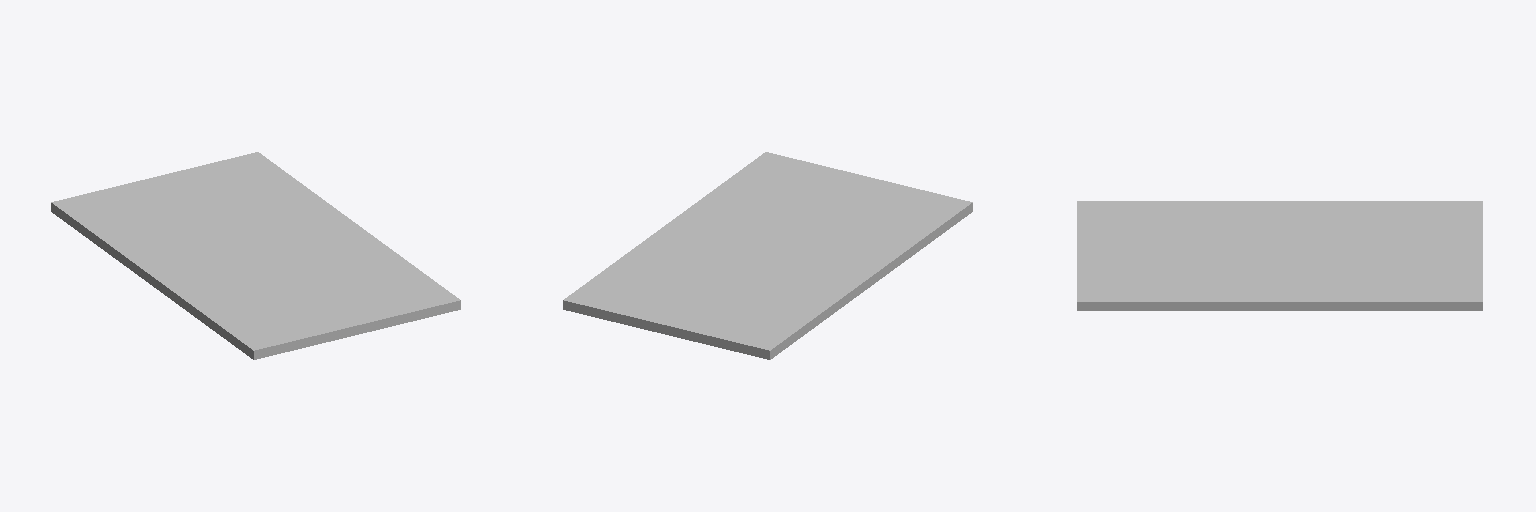
The model's file is Floor.obj.
The picture shows the model from 3 angles: view 1: azimuth 30°, elevation 25°; view 2: azimuth 150°, elevation 25°; view 3: azimuth 270°, elevation 25°; orthographic projection.
Visible parts, largest first — view 1: object 1; view 2: object 1; view 3: object 1.
Part boxes in pixels (x1,y1,x2,y2): object 1: (51, 152, 460, 359); object 1: (563, 152, 972, 359); object 1: (1077, 201, 1482, 310).
Size of the model in its own units: 2.3 by 0.1 by 3.9.